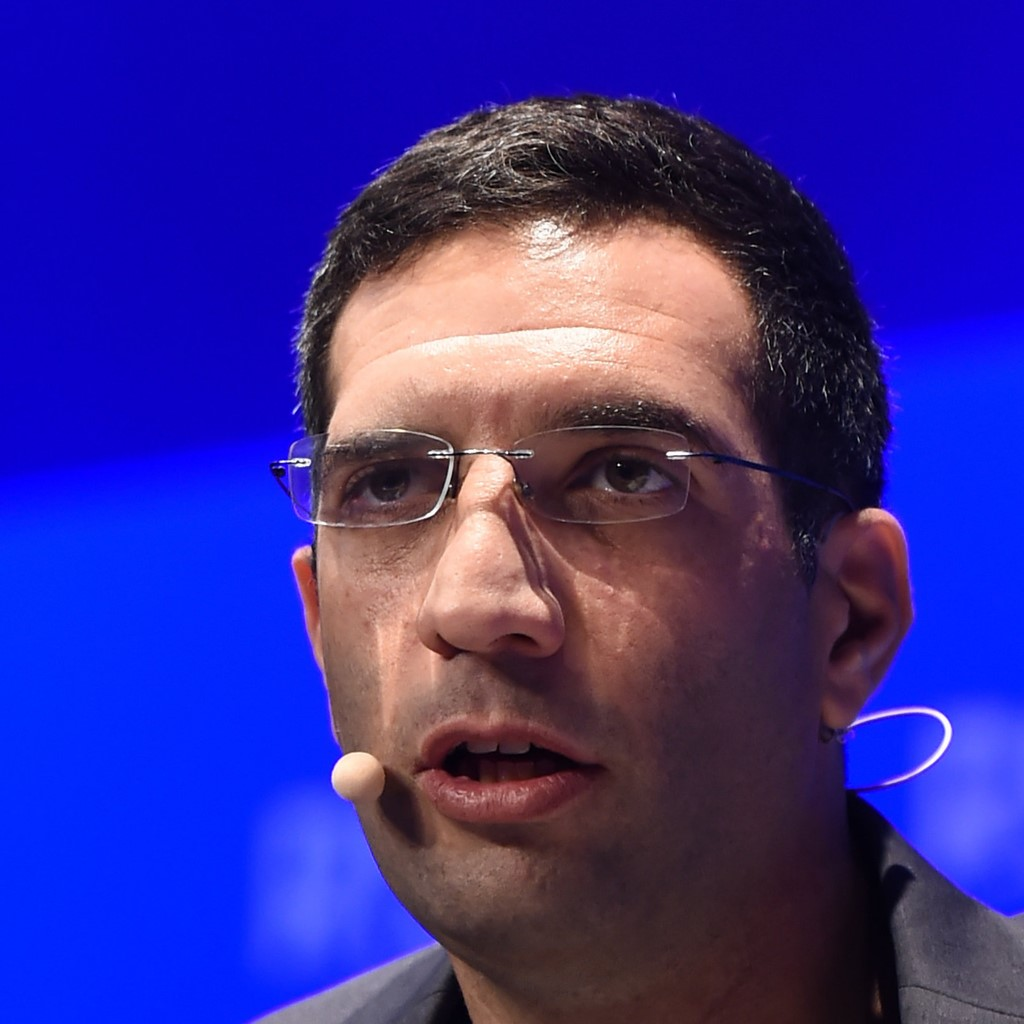sin_mascara: (312, 157, 831, 953)
